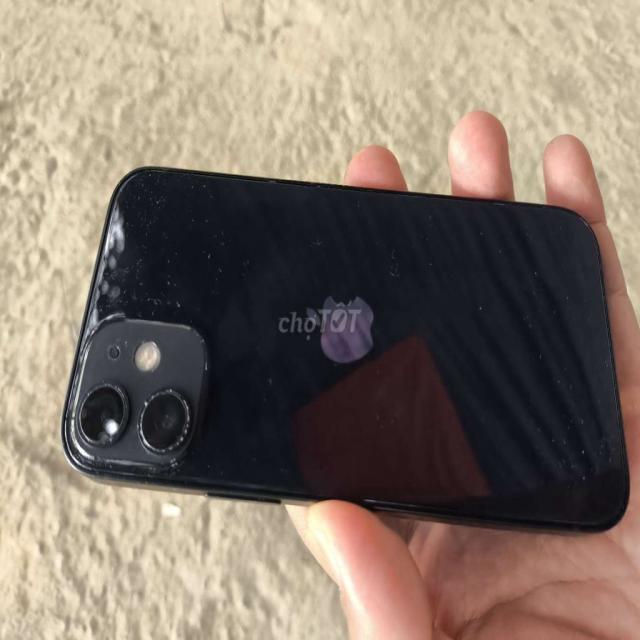scratch: (65, 263, 230, 472), (544, 202, 620, 531), (110, 164, 227, 247), (344, 476, 430, 526)
